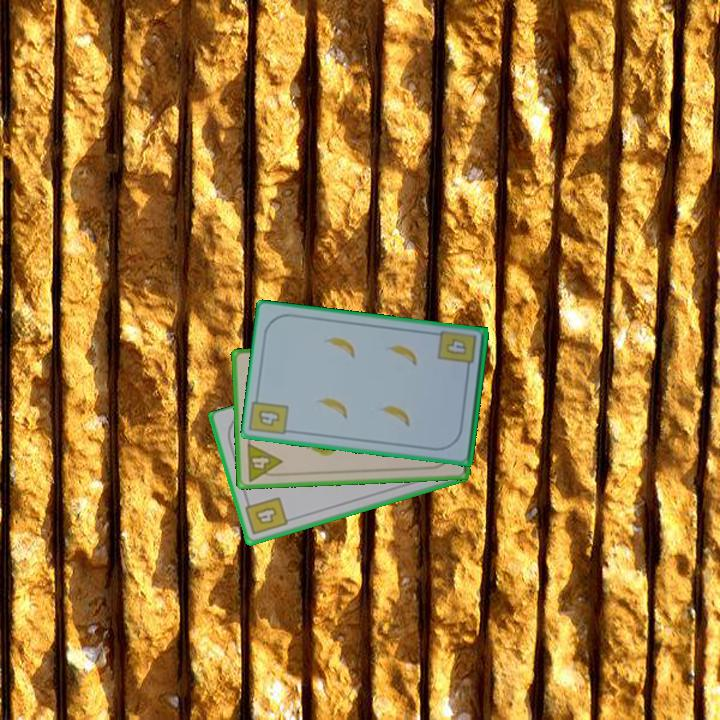4b: (242, 494, 290, 538), (435, 329, 479, 375), (254, 407, 282, 430)
4p: (243, 439, 285, 484)
